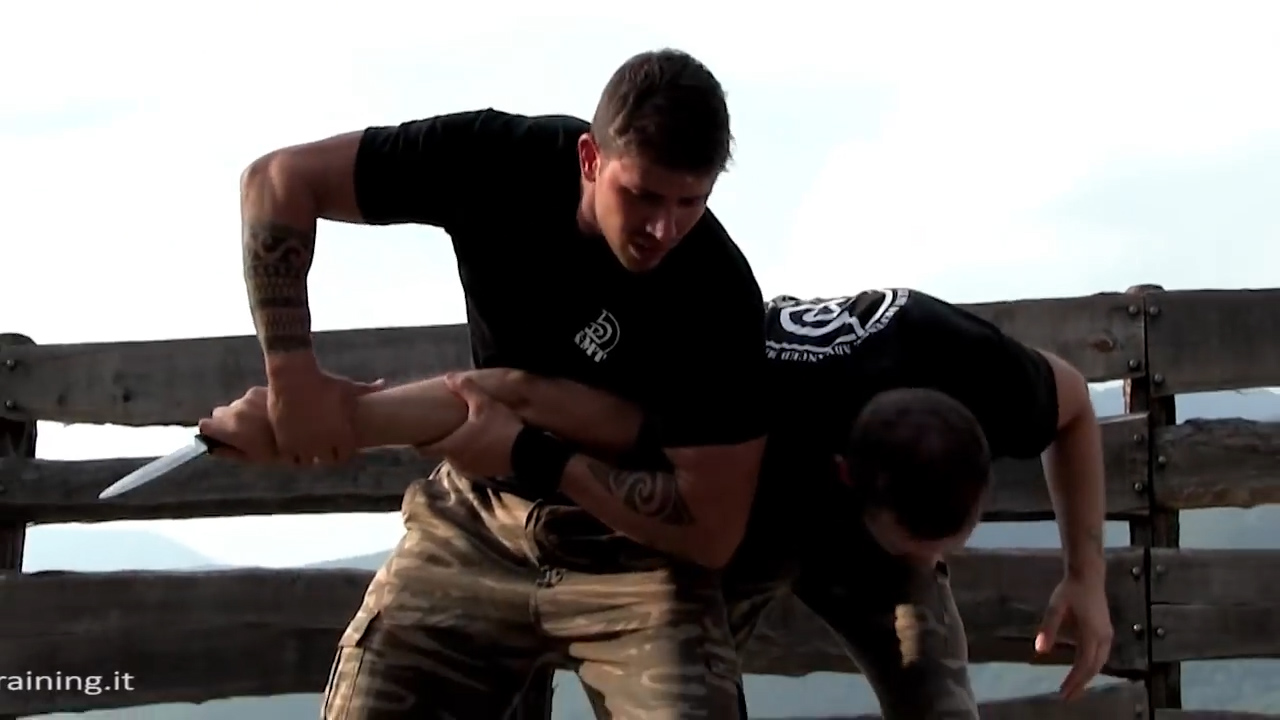knife: (85, 381, 265, 510)
